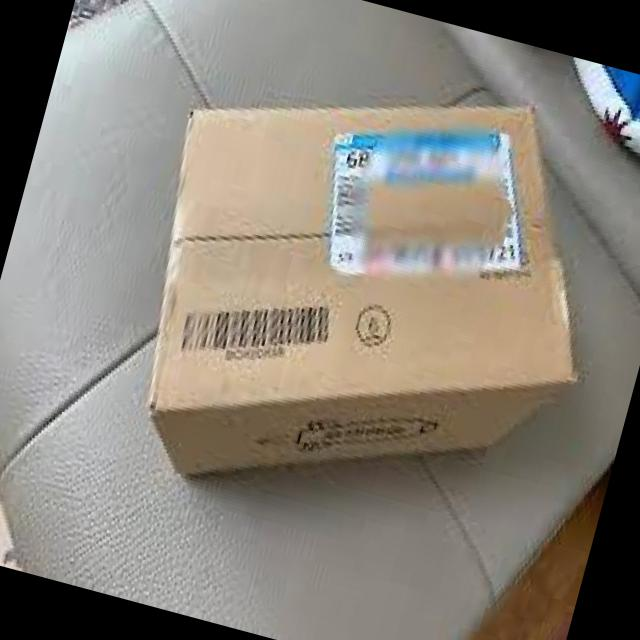box: (149, 106, 578, 474)
